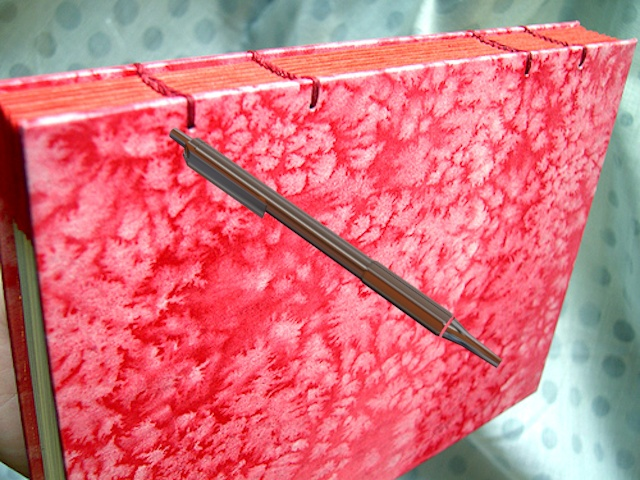pen: (160, 121, 513, 375)
